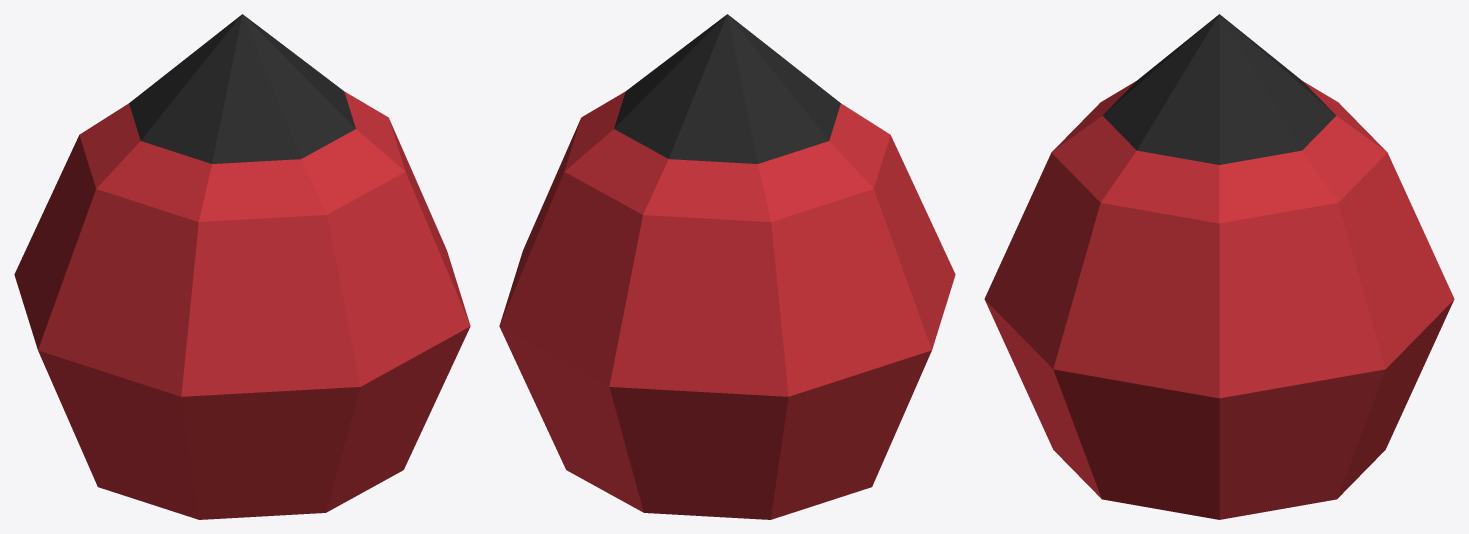
The model's file is buoy.glb.
3 renders of one model, left to right at view 1: azimuth 30°, elevation 25°; view 2: azimuth 150°, elevation 25°; view 3: azimuth 270°, elevation 25°, orthographic.
Parts seen in each view (by area): view 1: buoy; view 2: buoy; view 3: buoy.
Part boxes in pixels (bbox=[...]): buoy: bbox=[14, 14, 470, 519]; buoy: bbox=[499, 14, 955, 519]; buoy: bbox=[984, 14, 1454, 519].
Bounding box in the file's own units: 0.3692 × 0.4327 × 0.3692.
1 material, 1 textured.
